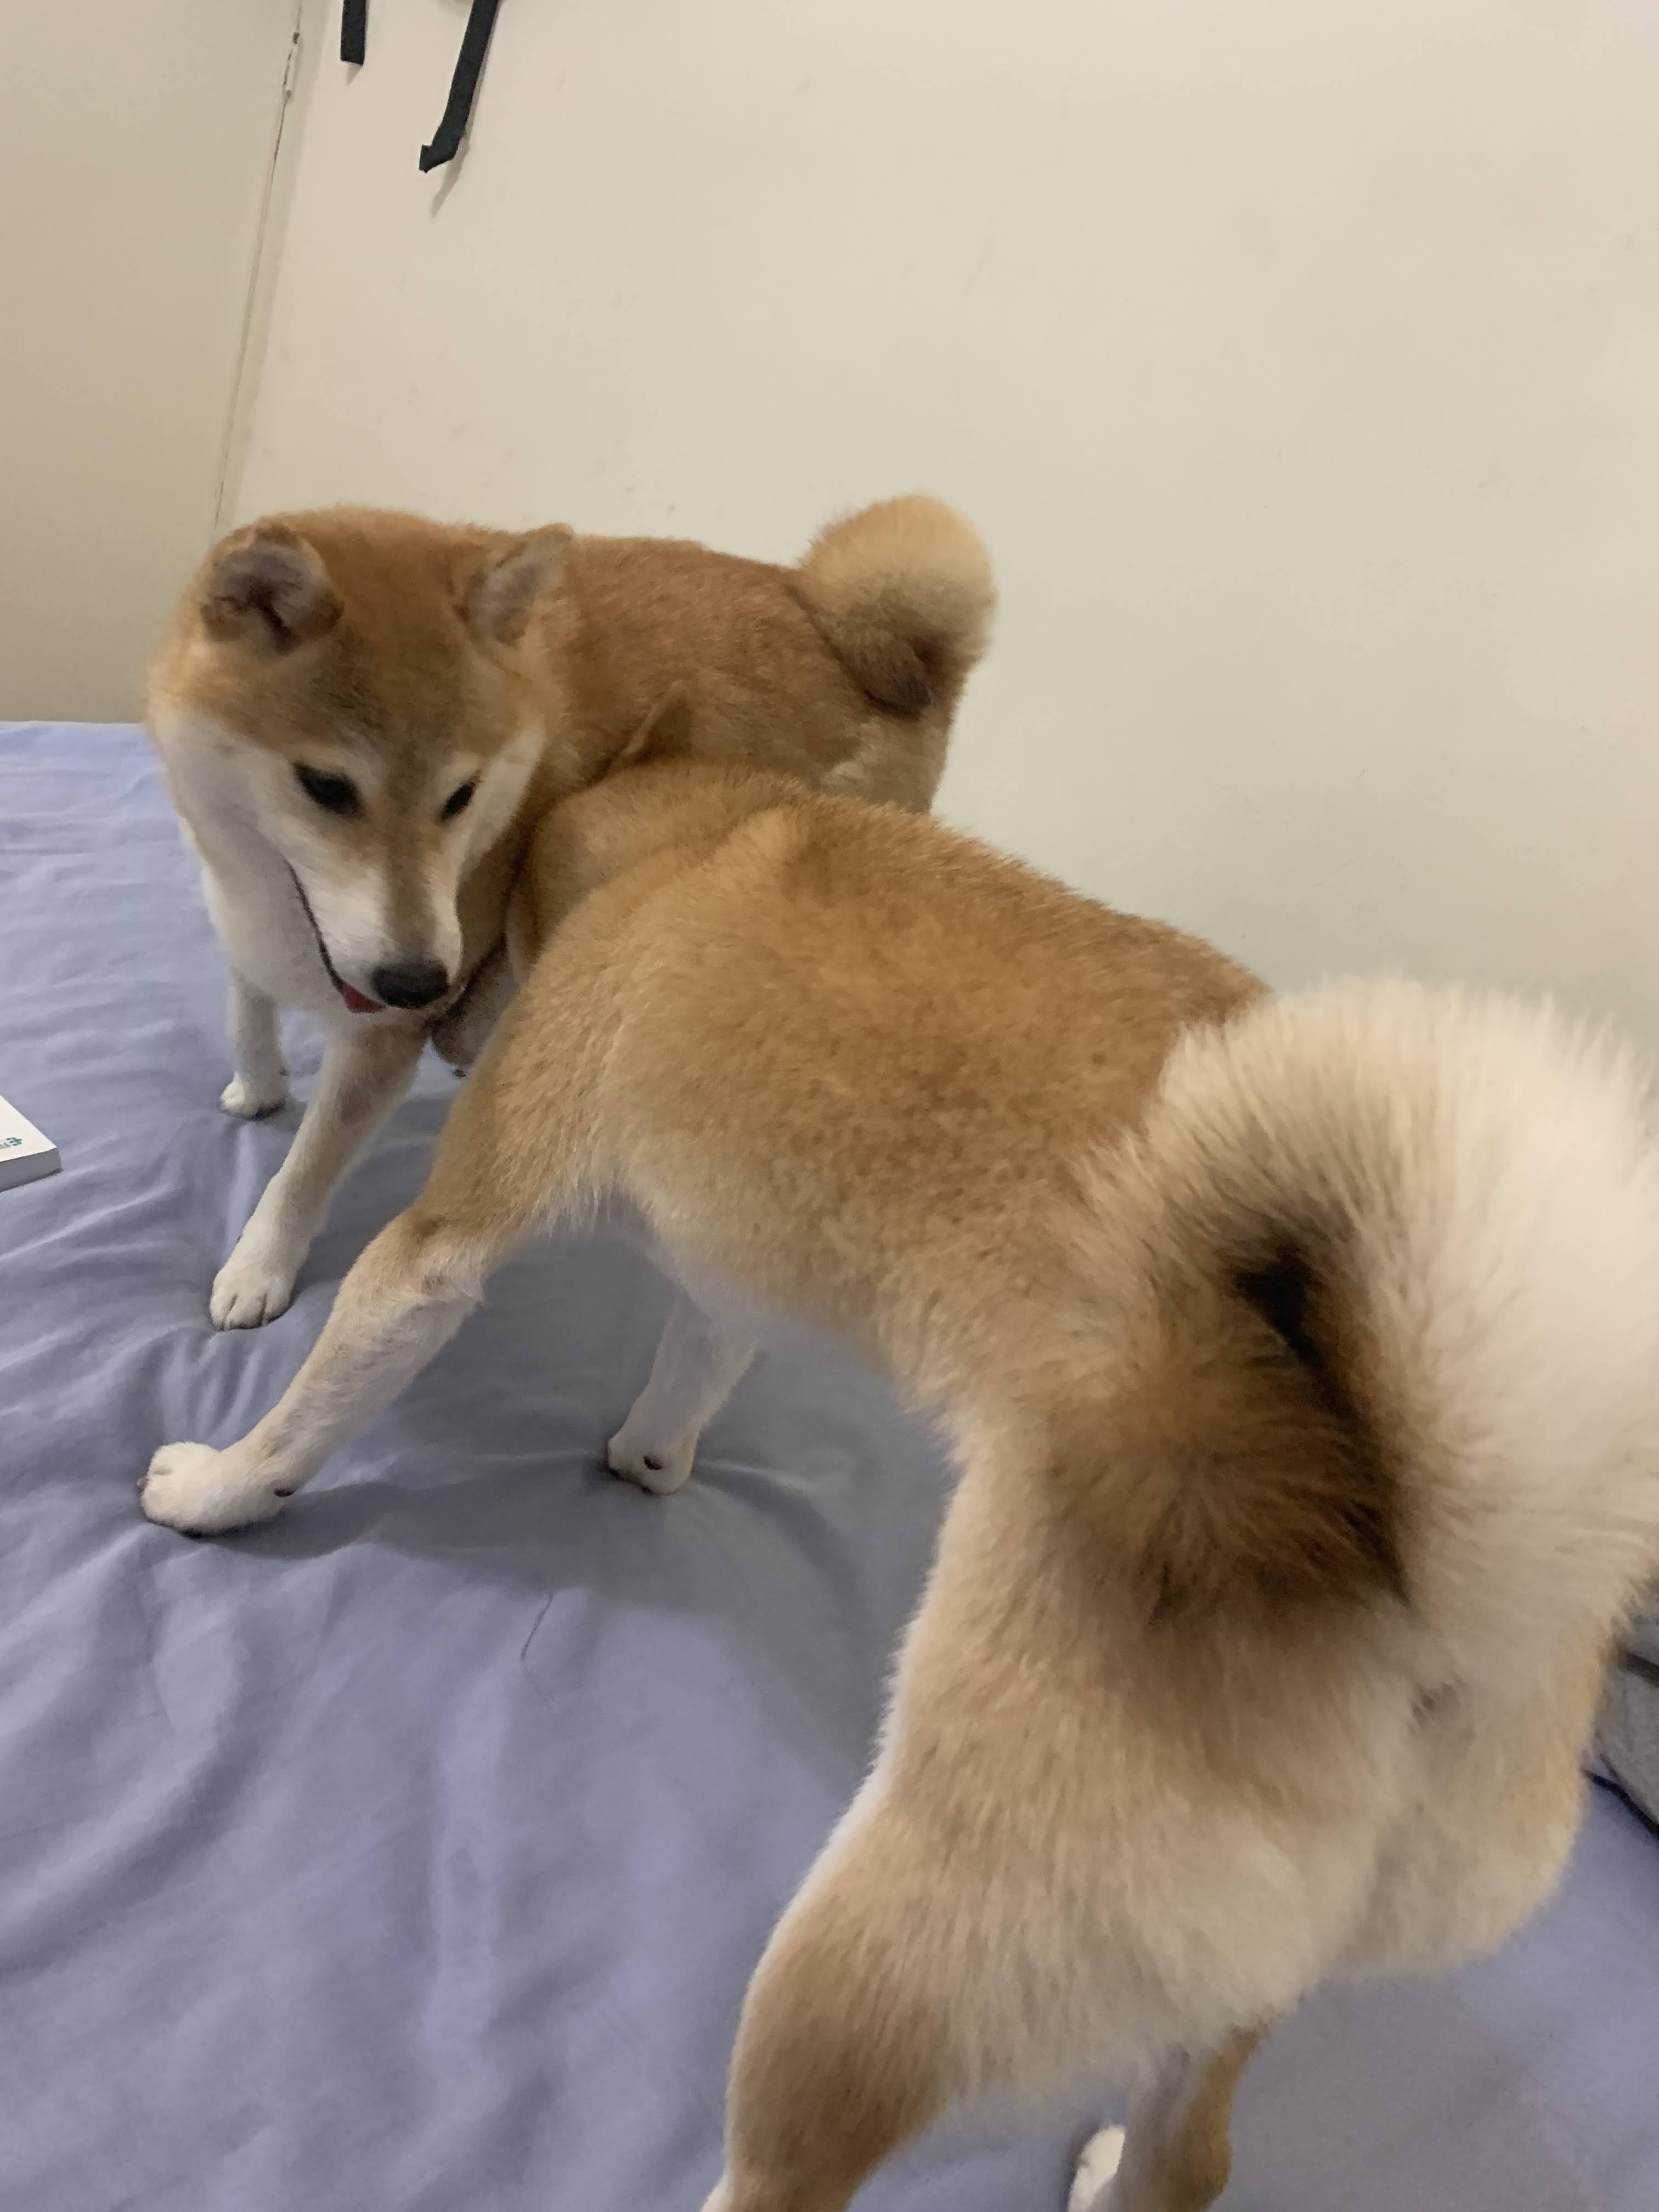Quarrel: (162, 479, 1659, 2212)
